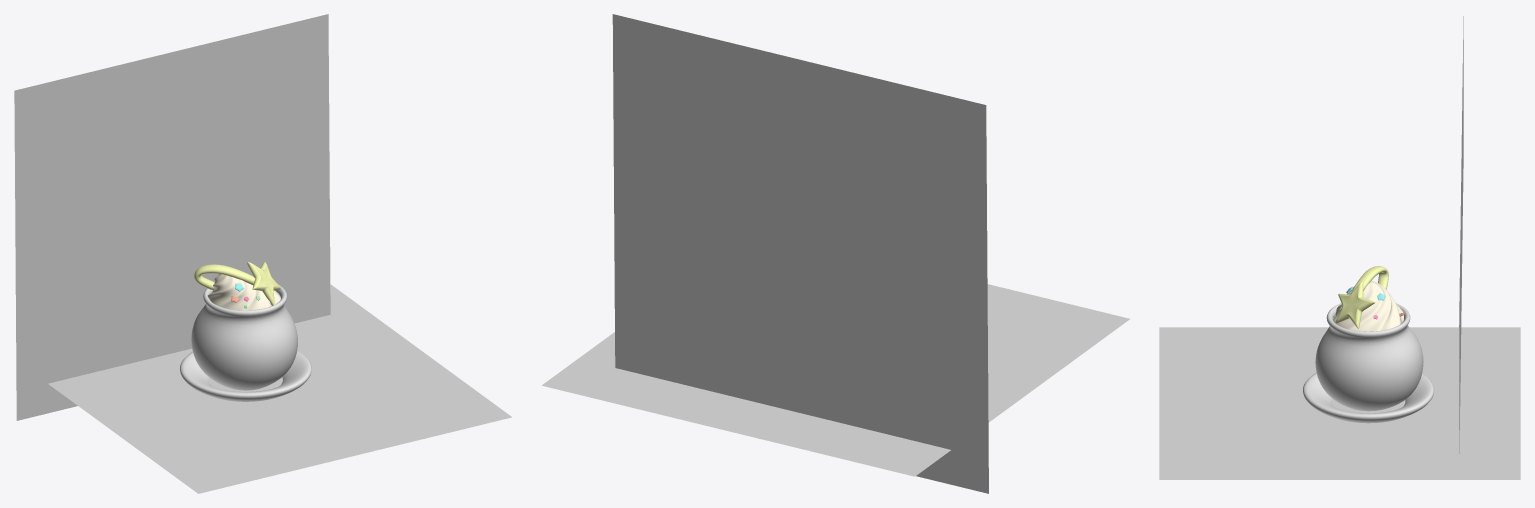
File: cosmic.fbx
3 views of the same model, side by side, from view 1: azimuth 30°, elevation 25°; view 2: azimuth 150°, elevation 25°; view 3: azimuth 270°, elevation 25° (orthographic). The views are drawn at different scales.
Visible parts, largest first — view 1: Plane.001, Plane, coaster, whip cream; view 2: Plane.001, Plane; view 3: Plane, coaster, whip cream, Plane.001.
Boxes of the visible parts, x1,y1,x2,y2 form: Plane.001: [14, 14, 330, 420]; Plane: [48, 284, 511, 493]; coaster: [180, 285, 311, 401]; whip cream: [194, 262, 280, 311]; Plane.001: [612, 14, 988, 493]; Plane: [542, 284, 1129, 476]; Plane: [1159, 327, 1520, 479]; coaster: [1303, 303, 1434, 423]; whip cream: [1333, 266, 1404, 331]; Plane.001: [1459, 16, 1463, 453].
Bounding box in the file's own units: 1641 × 1492 × 1492.
